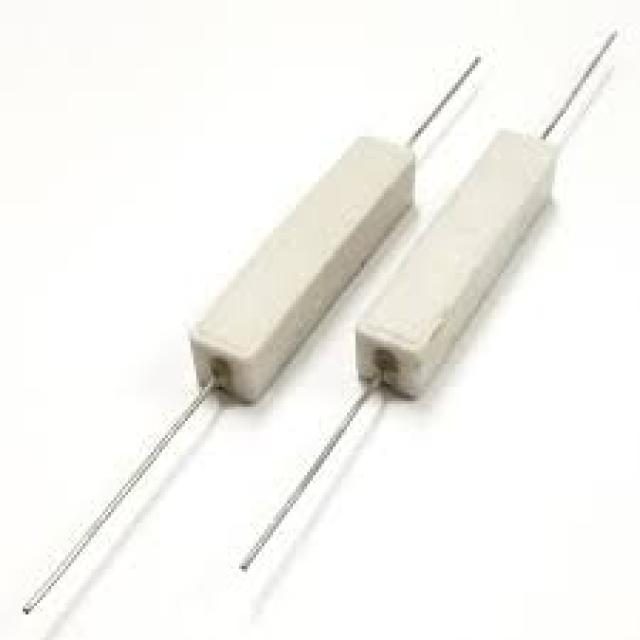Resistor: (171, 120, 406, 388), (371, 94, 548, 413)
